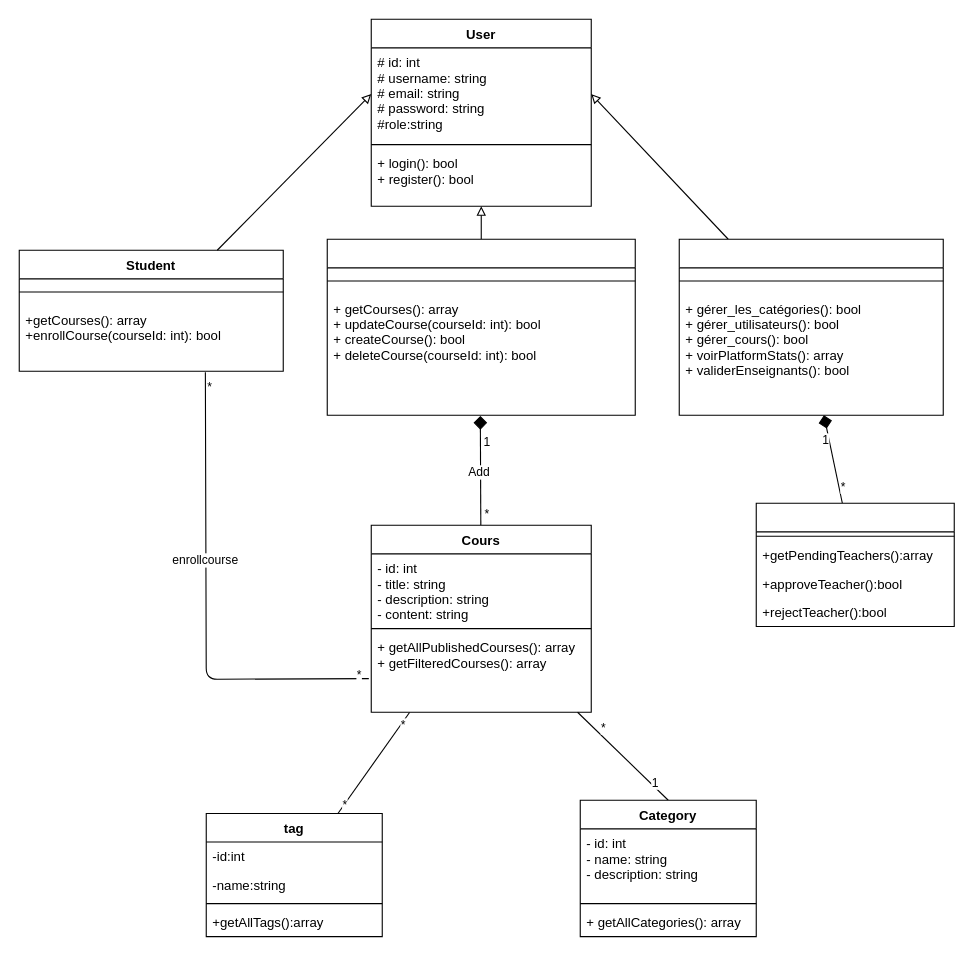
The diagram is 974 pixels wide and 959 high, and some of its shapes have lost their labels. Each missing label, with the box of its shape:
Admin: (678, 238, 943, 415)
Taecher: (326, 238, 635, 415)
TeacherApprovals: (755, 502, 954, 626)
